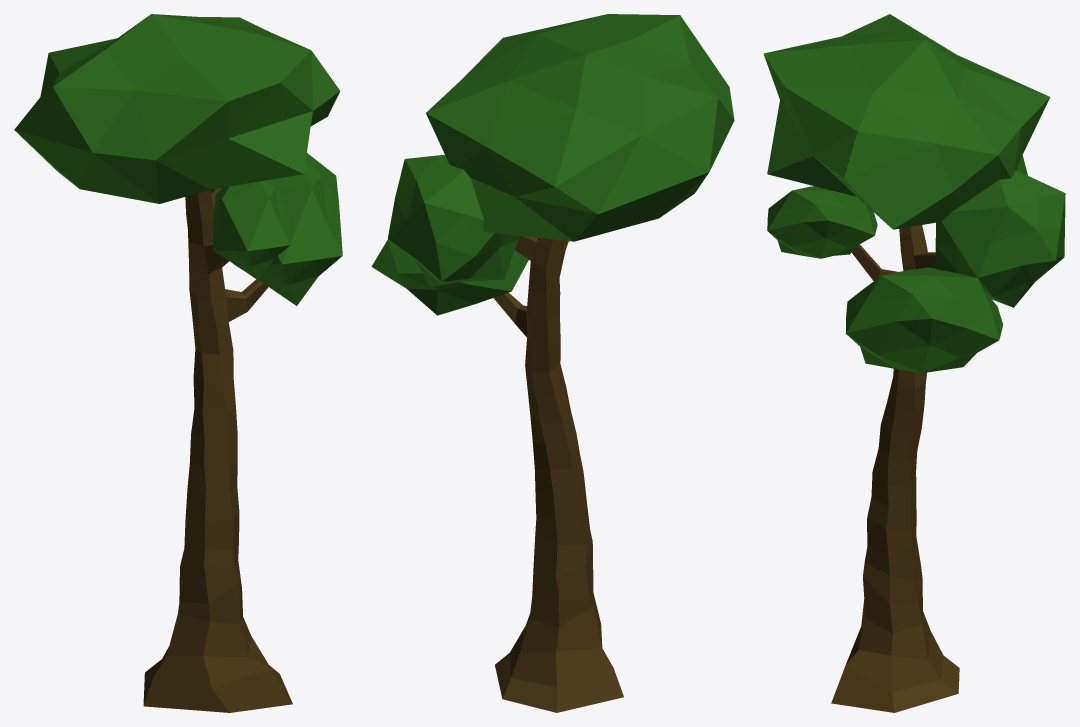
Rendered from bigtree2.fbx.
The picture shows the model from 3 angles, left to right: view 1: azimuth 30°, elevation 25°; view 2: azimuth 150°, elevation 25°; view 3: azimuth 270°, elevation 25°; orthographic projection. The views are drawn at different scales.
Visible parts, largest first — view 1: Icosphere.001; view 2: Icosphere.001; view 3: Icosphere.001.
Boxes of the visible parts, box(x1,y1,x2,y2) form: Icosphere.001: box(14, 14, 342, 712); Icosphere.001: box(371, 14, 734, 712); Icosphere.001: box(763, 14, 1065, 712).
Bounding box in the file's own units: 818 × 1639 × 720.
